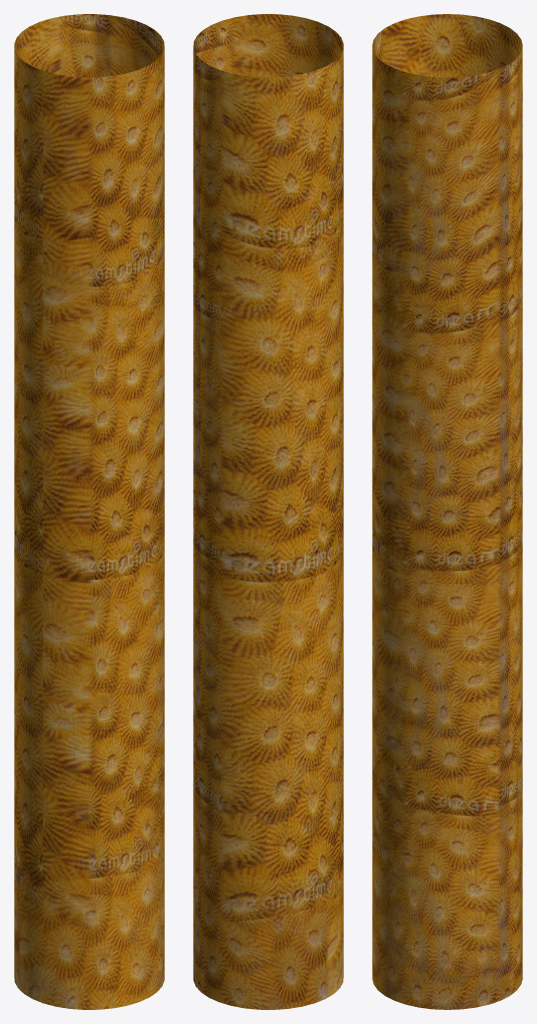
File: tunnel.fbx
3 renders of one model, left to right at view 1: azimuth 30°, elevation 25°; view 2: azimuth 150°, elevation 25°; view 3: azimuth 270°, elevation 25°, orthographic.
Parts seen in each view (by area): view 1: Cylinder; view 2: Cylinder; view 3: Cylinder.
Boxes of the visible parts, x1=… form: Cylinder: x1=14, y1=14, x2=164, y2=1009; Cylinder: x1=193, y1=14, x2=343, y2=1009; Cylinder: x1=372, y1=14, x2=522, y2=1009.
Bounding box in the file's own units: 200 × 1366 × 200.
